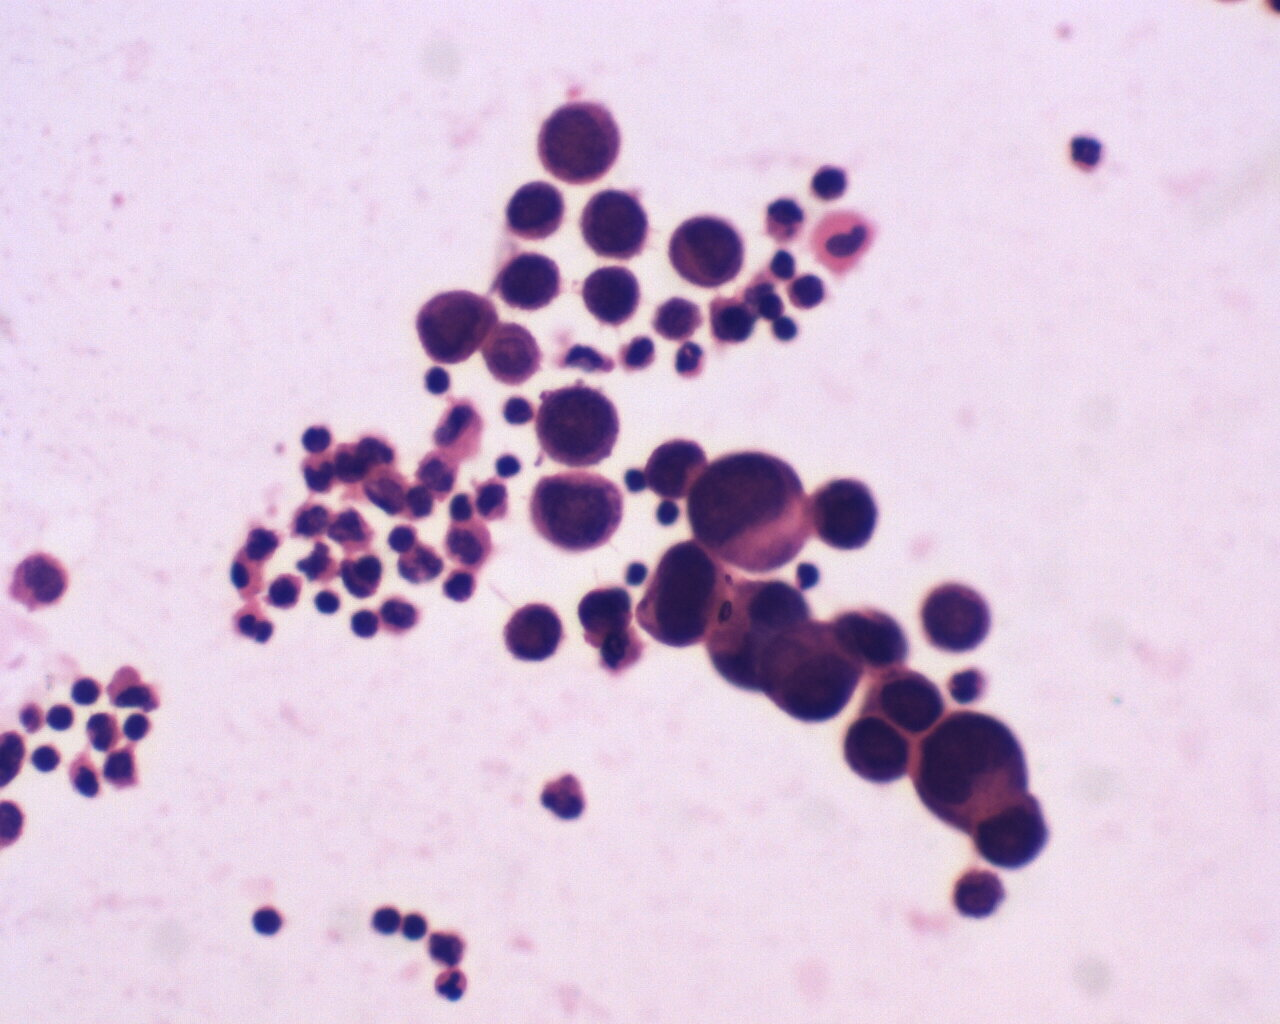ab: (690, 450, 808, 574), (913, 707, 1028, 820), (758, 614, 864, 725), (528, 467, 625, 554), (537, 97, 624, 188), (537, 379, 619, 468), (414, 287, 501, 369), (976, 789, 1053, 869), (841, 709, 918, 789), (666, 214, 746, 290), (579, 180, 649, 260), (809, 473, 878, 554), (921, 579, 994, 652), (478, 320, 546, 390), (504, 177, 567, 245), (496, 248, 564, 311), (497, 600, 563, 665), (645, 436, 709, 502), (580, 262, 644, 328)
lymph: (249, 898, 288, 939), (366, 898, 404, 940), (296, 417, 336, 457), (344, 601, 383, 639), (71, 671, 106, 709), (31, 736, 64, 775), (420, 365, 455, 397)
neutro: (1065, 127, 1108, 176), (430, 965, 474, 1005), (668, 338, 708, 378)
